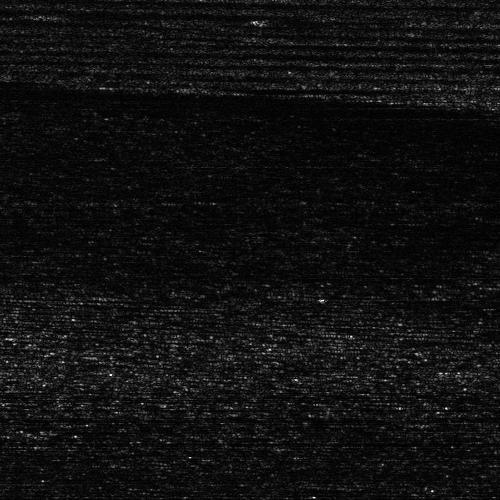object: (8, 9, 101, 18), (149, 87, 242, 92), (251, 16, 292, 23)
shadow: (55, 9, 232, 18), (195, 87, 387, 92), (272, 16, 364, 23)
